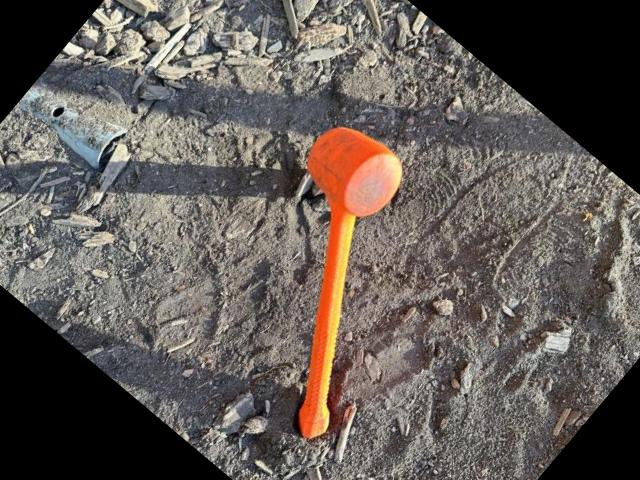hammer: (164, 109, 488, 444)
